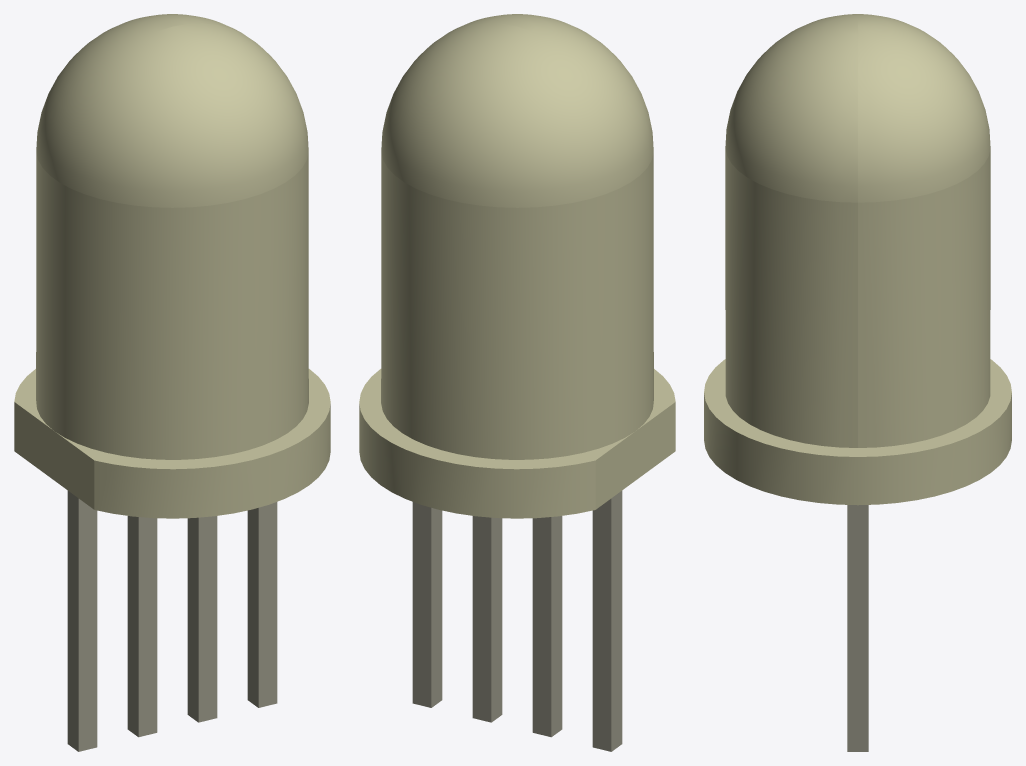
The model's file is led-5mm-rgb.glb.
3 views of the same model, side by side, from view 1: azimuth 30°, elevation 25°; view 2: azimuth 150°, elevation 25°; view 3: azimuth 270°, elevation 25° (orthographic). The views are drawn at different scales.
Size of the model in its own units: 5.4 by 14.1 by 5.8.
